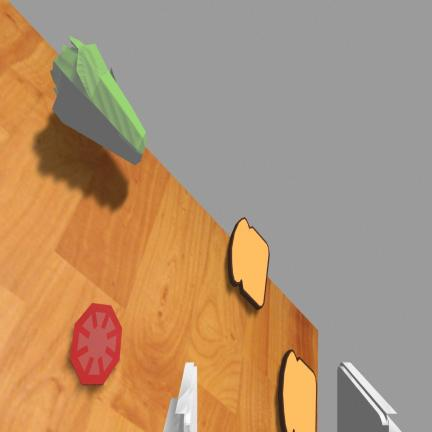lettuce: (51, 37, 146, 164)
sliced_bread: (228, 218, 269, 308), (278, 350, 316, 431)
sliced_tomato: (71, 303, 122, 384)
